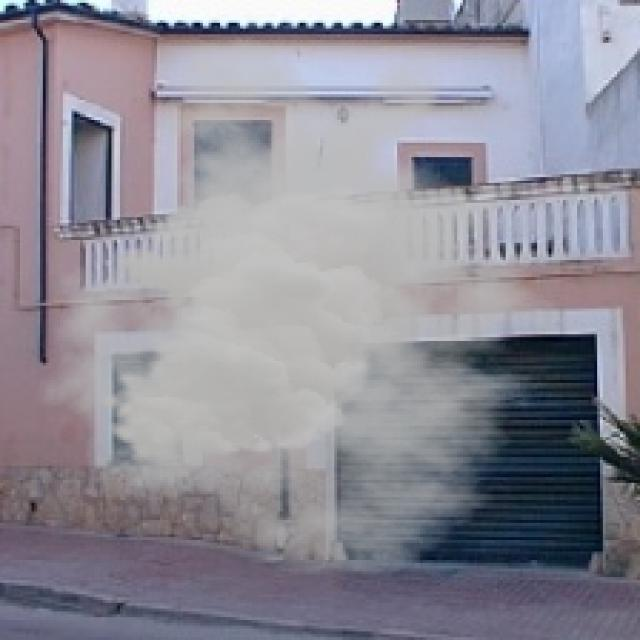smoke: (37, 34, 594, 577)
